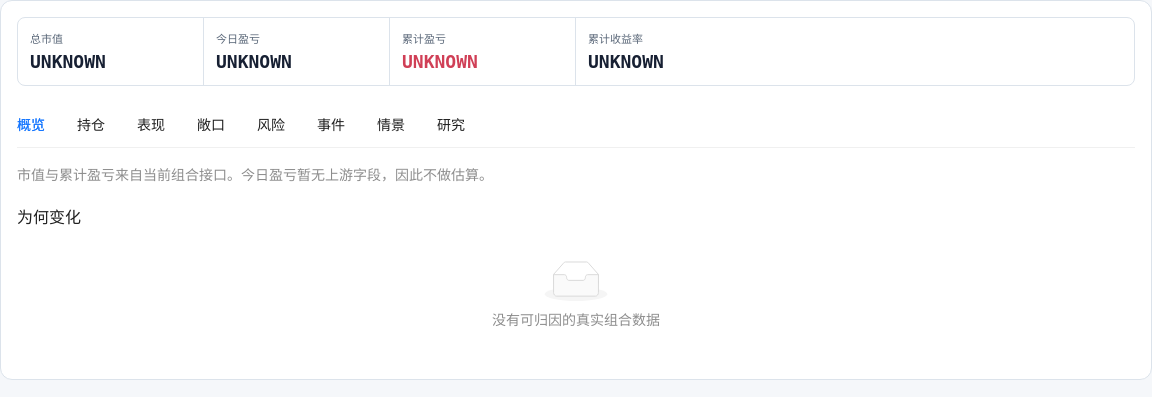
Test: PortfolioOverview › keeps absent portfolio values and holdings explicitly UNKNOWN
Expected: the text "UNKNOWN" below "总市值" is shown, [30,51,106,72]
Step 1. Click the tab "持仓" → [91, 125], box [77,114,105,136]
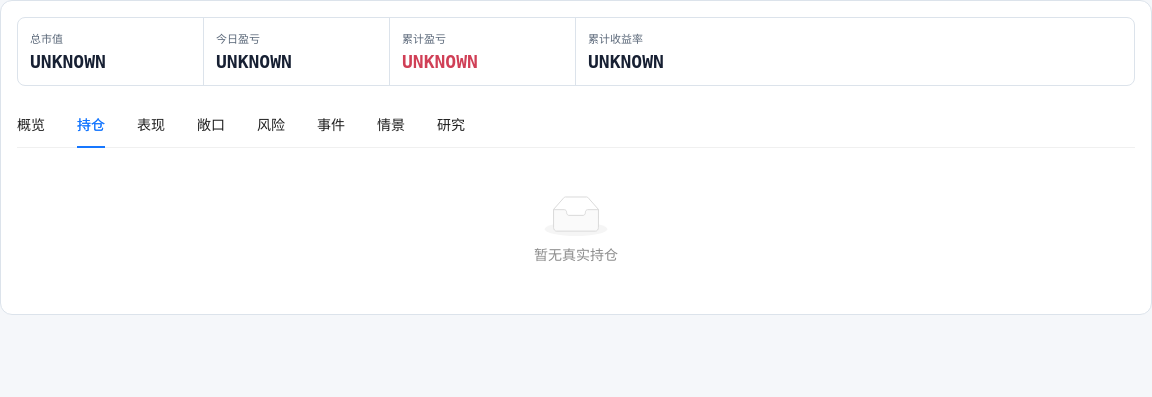
Now the text "暂无真实持仓" is shown, box [534,246,618,263]
